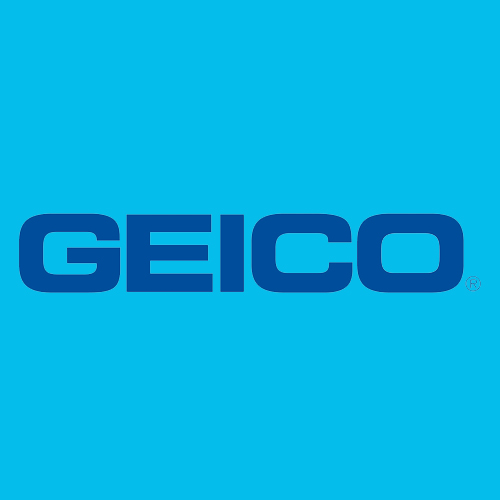geico: (18, 209, 472, 299)
